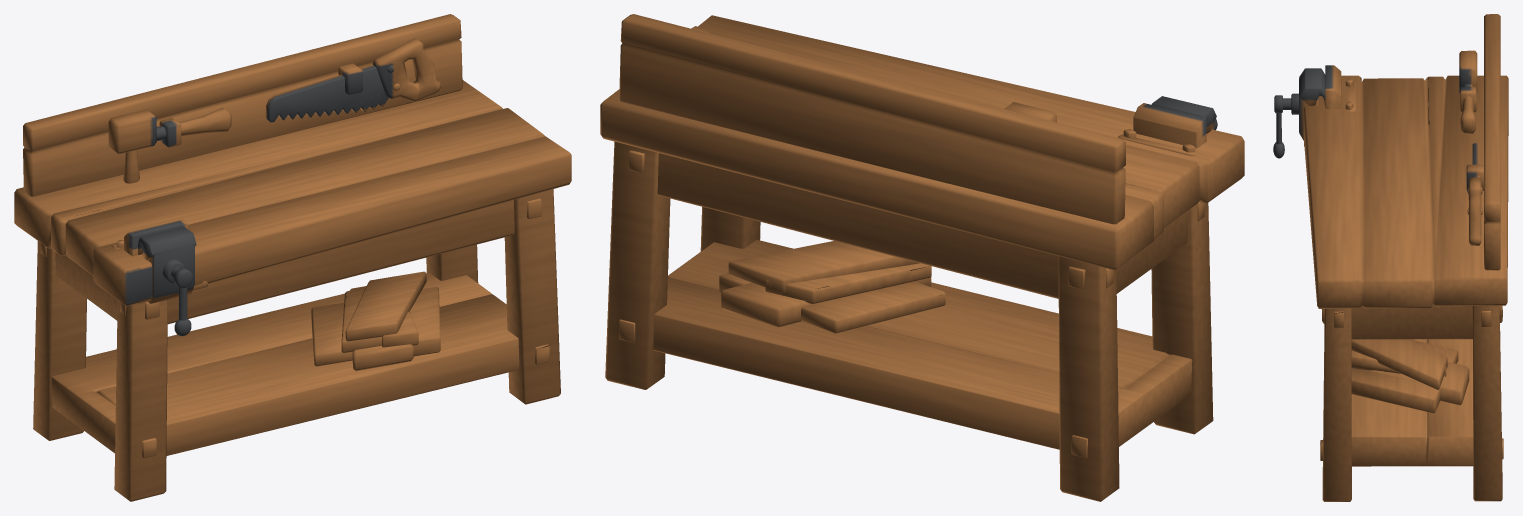
The model's file is crafting_bench.fbx.
3 views of the same model, side by side, from view 1: azimuth 30°, elevation 25°; view 2: azimuth 150°, elevation 25°; view 3: azimuth 270°, elevation 25° (orthographic). The views are drawn at different scales.
Parts seen in each view (by area): view 1: crafting_bench; view 2: crafting_bench; view 3: crafting_bench.
Boxes of the visible parts, bbox=[...] form: crafting_bench: bbox=[14, 14, 571, 501]; crafting_bench: bbox=[600, 14, 1244, 501]; crafting_bench: bbox=[1273, 14, 1508, 501].
Bounding box in the file's own units: 1.35 × 0.9 × 0.65.
Materials: 1 (1 with a texture image).
